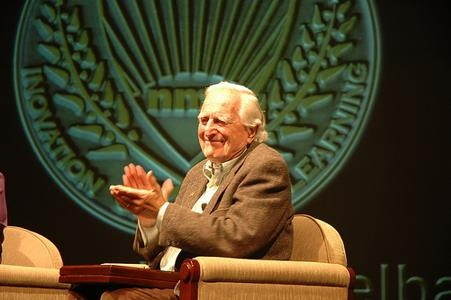person without safety: (161, 74, 296, 262)
